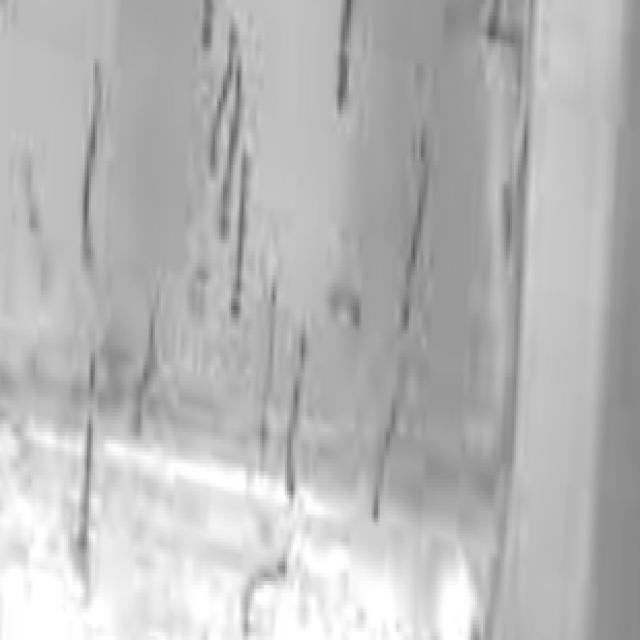larvas: (372, 369, 406, 520), (401, 152, 431, 323), (218, 62, 247, 235), (206, 25, 237, 174), (240, 554, 287, 638), (82, 68, 102, 254), (285, 333, 306, 487), (233, 148, 250, 314), (134, 304, 157, 425), (262, 286, 280, 438), (79, 418, 93, 558), (89, 345, 130, 388), (338, 0, 352, 104), (203, 0, 212, 46)
